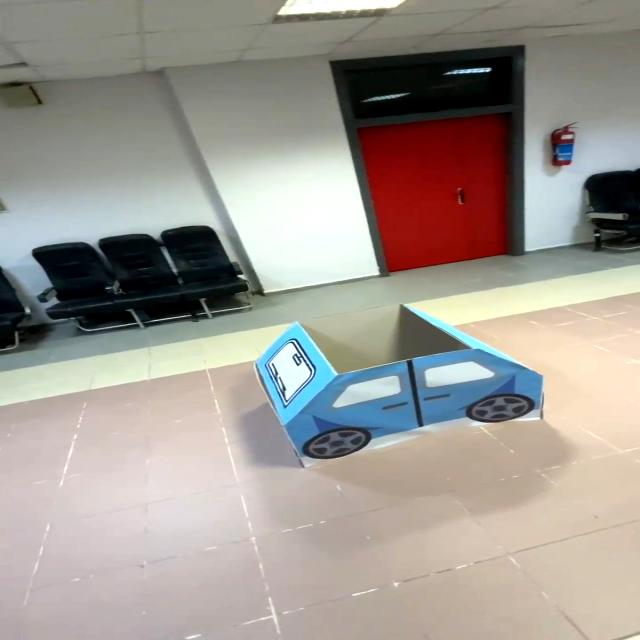blue_car: (219, 299, 578, 480)
